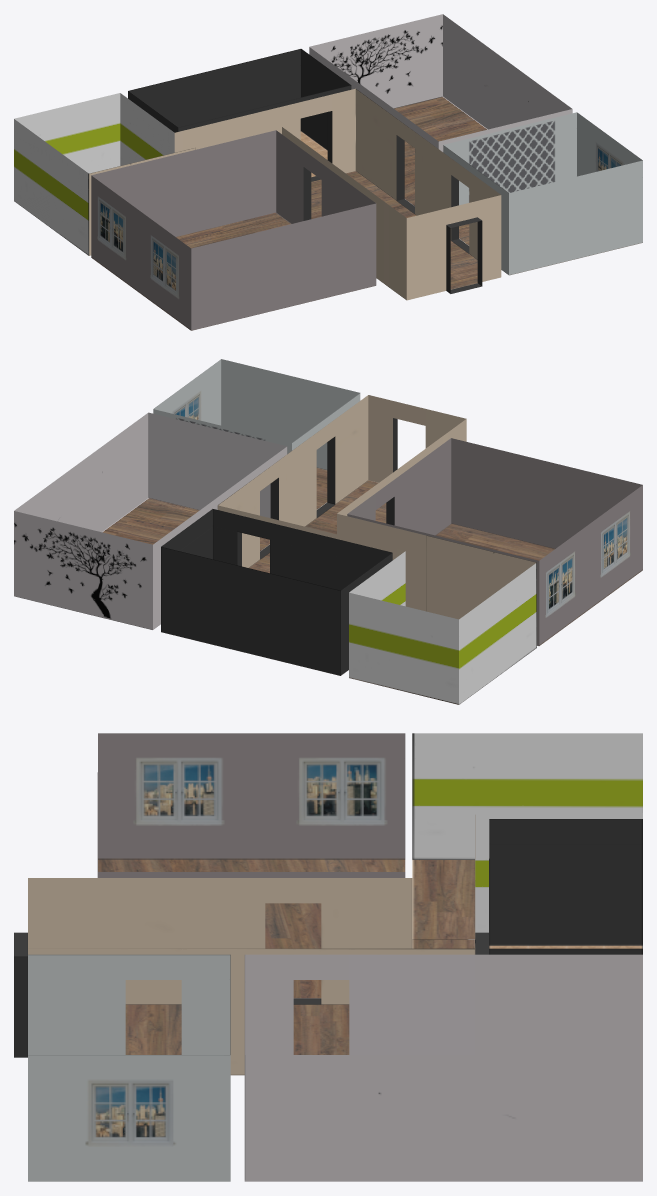
The model's file is DOM.obj.
The picture shows the model from 3 angles, top to bottom: view 1: azimuth 30°, elevation 25°; view 2: azimuth 150°, elevation 25°; view 3: azimuth 270°, elevation 25°; orthographic projection. The views are drawn at different scales.
Visible parts, largest first — view 1: Plane; view 2: Plane; view 3: Plane.
Boxes of the visible parts, x1,y1,x2,y2 form: Plane: (14, 14, 642, 330); Plane: (14, 359, 642, 704); Plane: (14, 733, 642, 1181).
Bounding box in the file's own units: 27.25 × 5 × 22.5.
